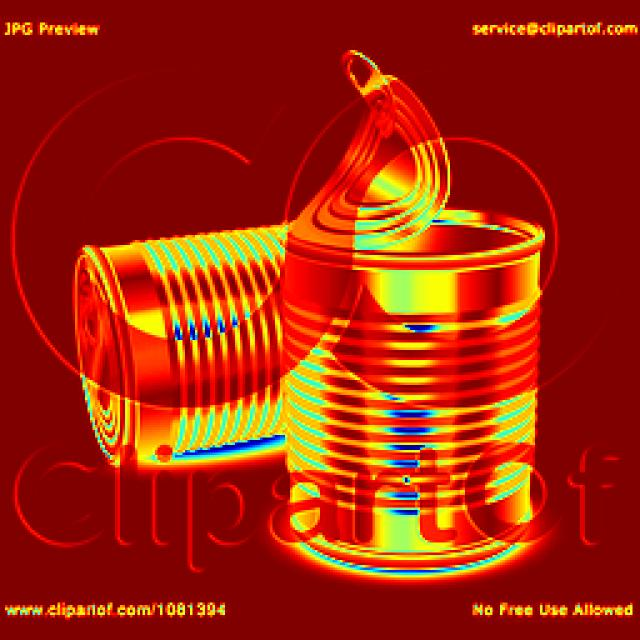Aluminium Food Cans: (303, 48, 536, 570), (74, 215, 286, 455)
